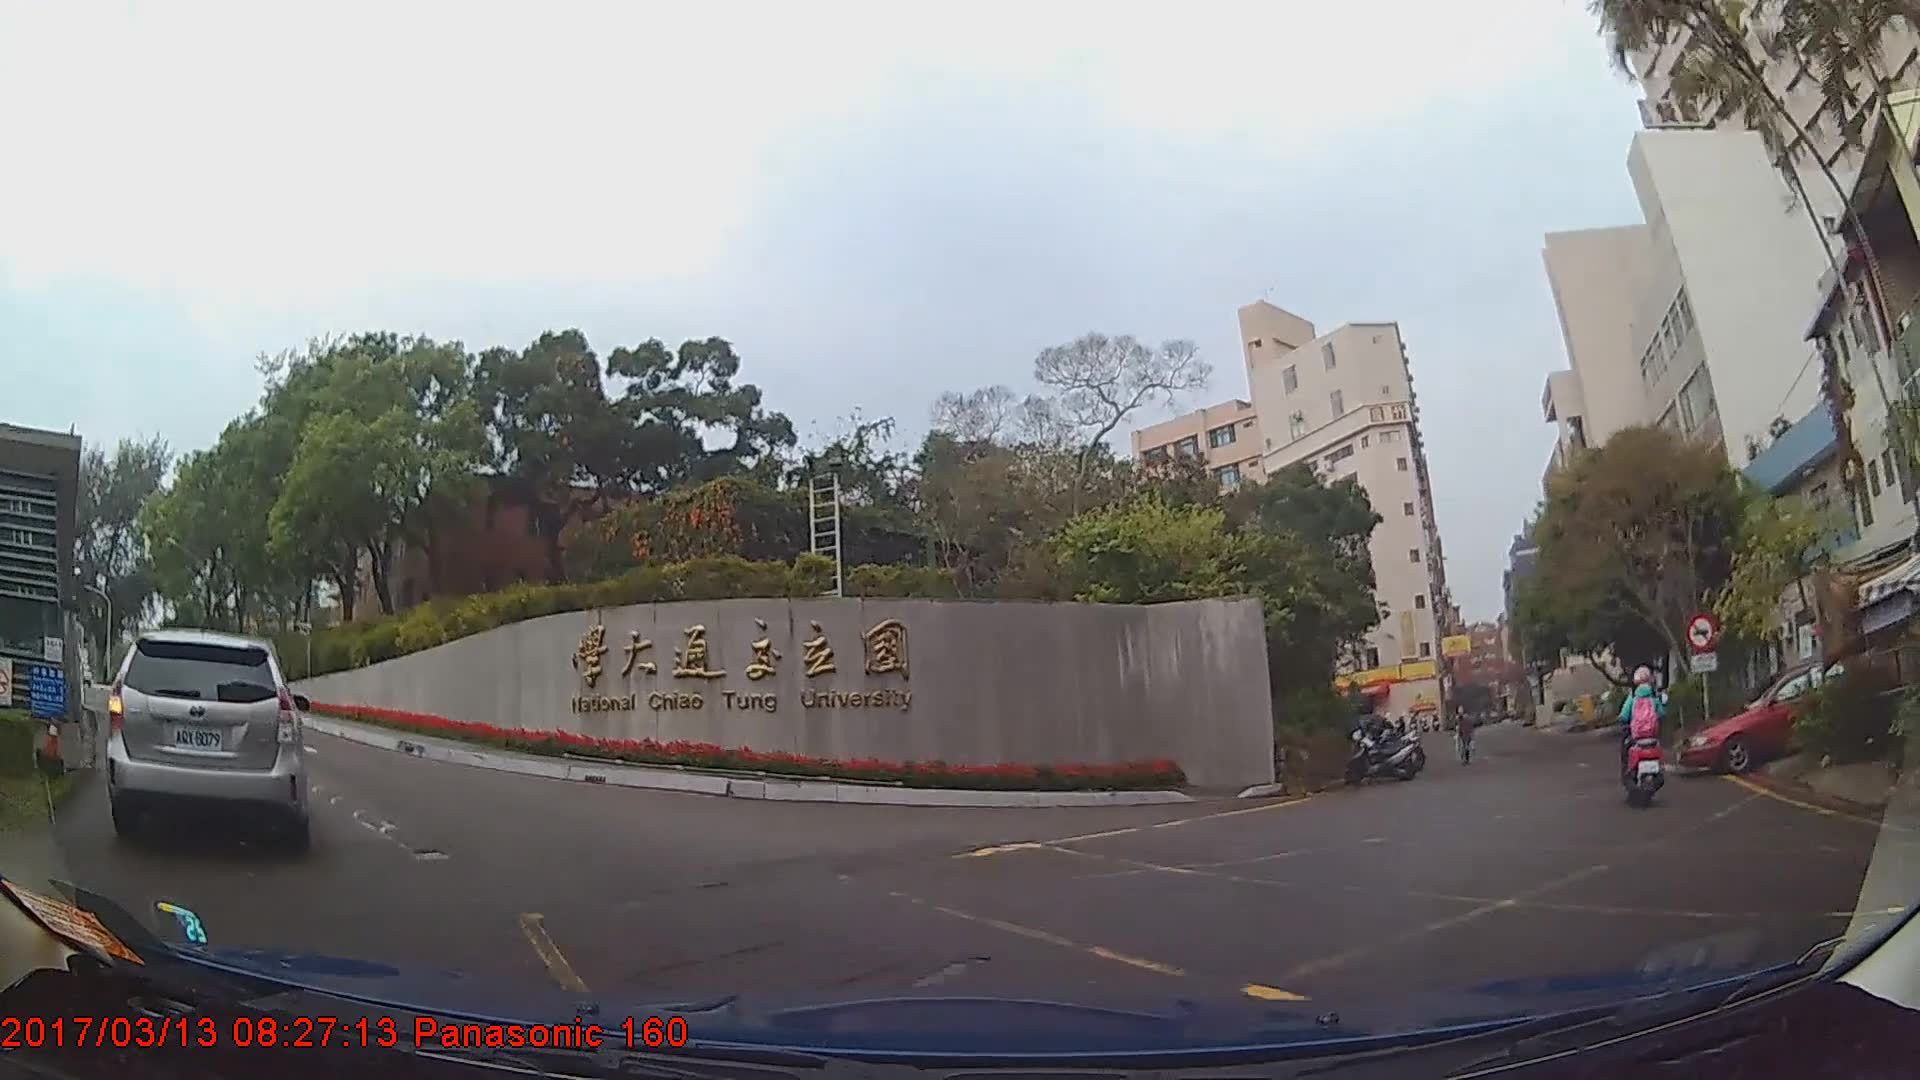pedestrian: (1451, 706, 1478, 767)
rider: (1624, 663, 1671, 807)
vehicle: (107, 625, 311, 849), (1676, 663, 1884, 777)
